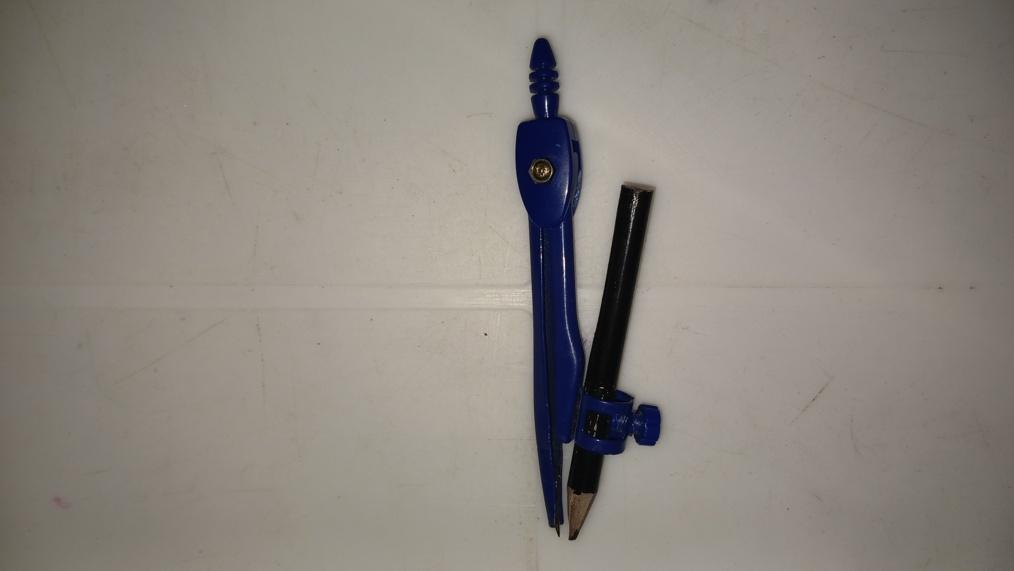Compass: (512, 36, 663, 537)
